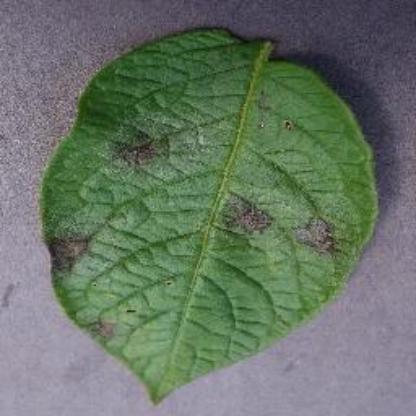Late-Blight: (36, 25, 384, 406)
